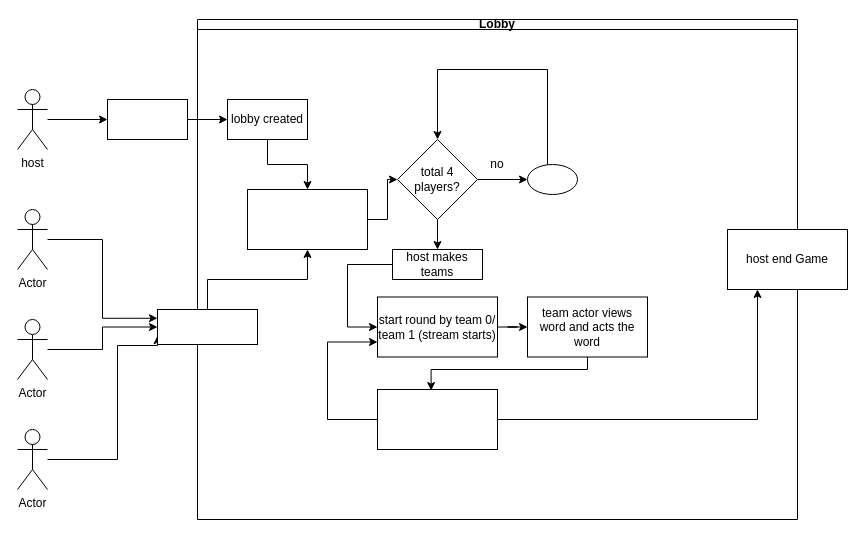
The diagram is 865 pixels wide and 537 high, and some of its shapes have lost their labels. Here are the shapes that lost their labels. From the top down, the box of each, then its label:
(106, 98, 188, 140): create lobby
(526, 164, 578, 194): wait
(246, 188, 368, 250): join room (stake 20 fDAIx)
(156, 308, 258, 344): join lobby
(376, 388, 498, 450): team finds the word (calls end Round) - stop stream
